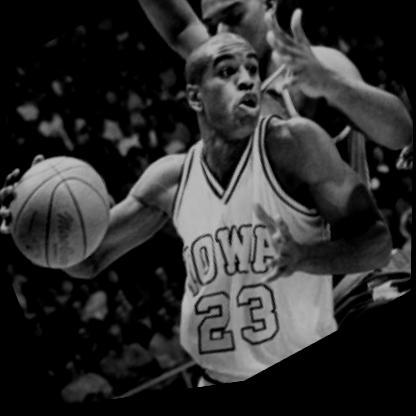basketball: (0, 125, 136, 298)
